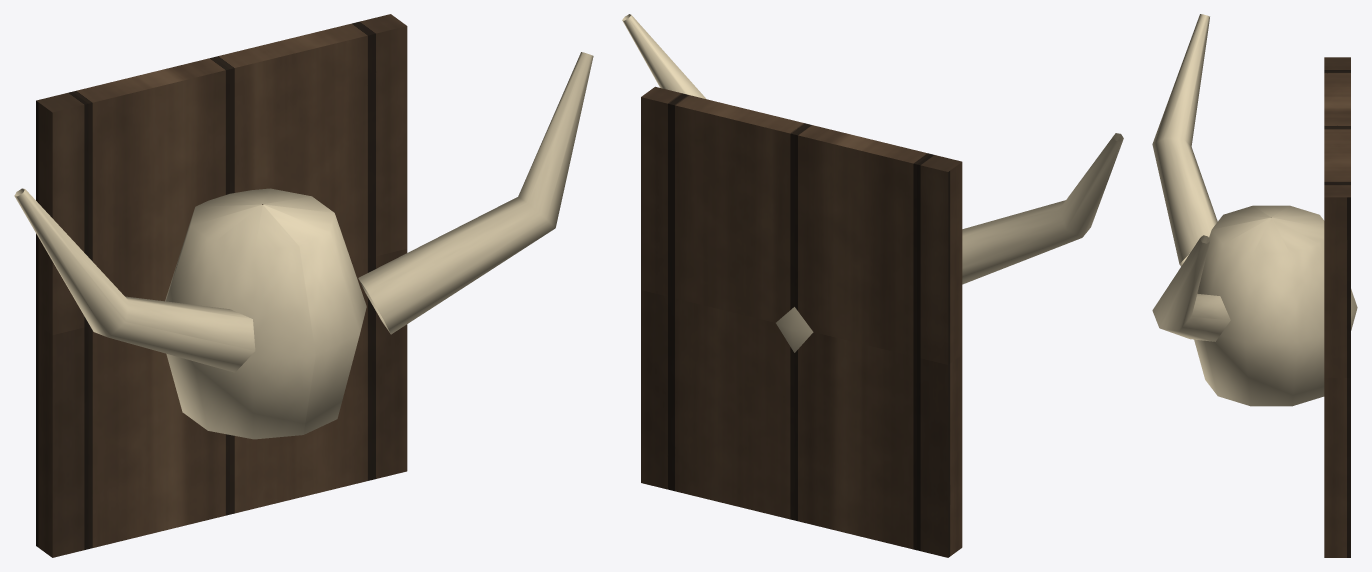
The model's file is Trophy_Skull_1.gltf.
3 views of the same model, side by side, from view 1: azimuth 30°, elevation 25°; view 2: azimuth 150°, elevation 25°; view 3: azimuth 270°, elevation 25° (orthographic). The views are drawn at different scales.
Visible parts, largest first — view 1: Trophy_Skull_1; view 2: Trophy_Skull_1; view 3: Trophy_Skull_1.
Boxes of the visible parts, bbox=[...] form: Trophy_Skull_1: bbox=[14, 14, 593, 557]; Trophy_Skull_1: bbox=[622, 14, 1123, 557]; Trophy_Skull_1: bbox=[1152, 14, 1357, 557].
Size of the model in its own units: 0.8122 by 0.6044 by 0.3096.
2 materials, 2 textured.
